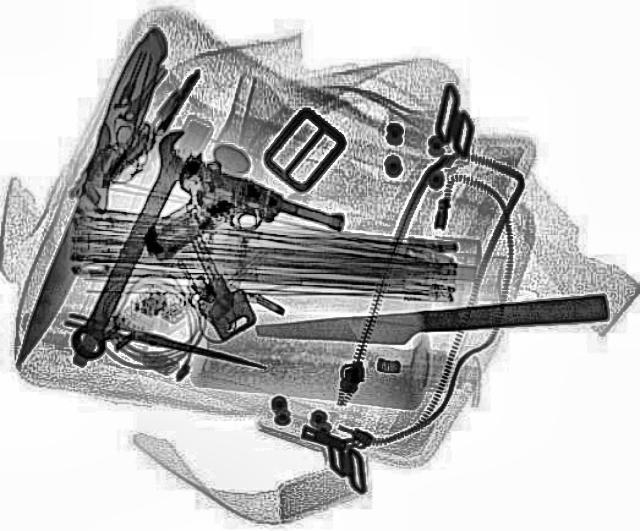Gun: (130, 156, 352, 304)
Knife: (9, 23, 172, 365), (252, 292, 610, 352), (63, 307, 267, 377)
Wrench: (59, 122, 211, 362)
